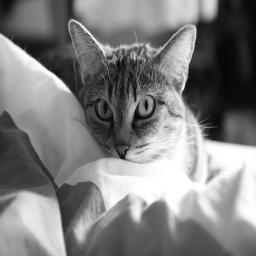catnose: (113, 140, 131, 158)
